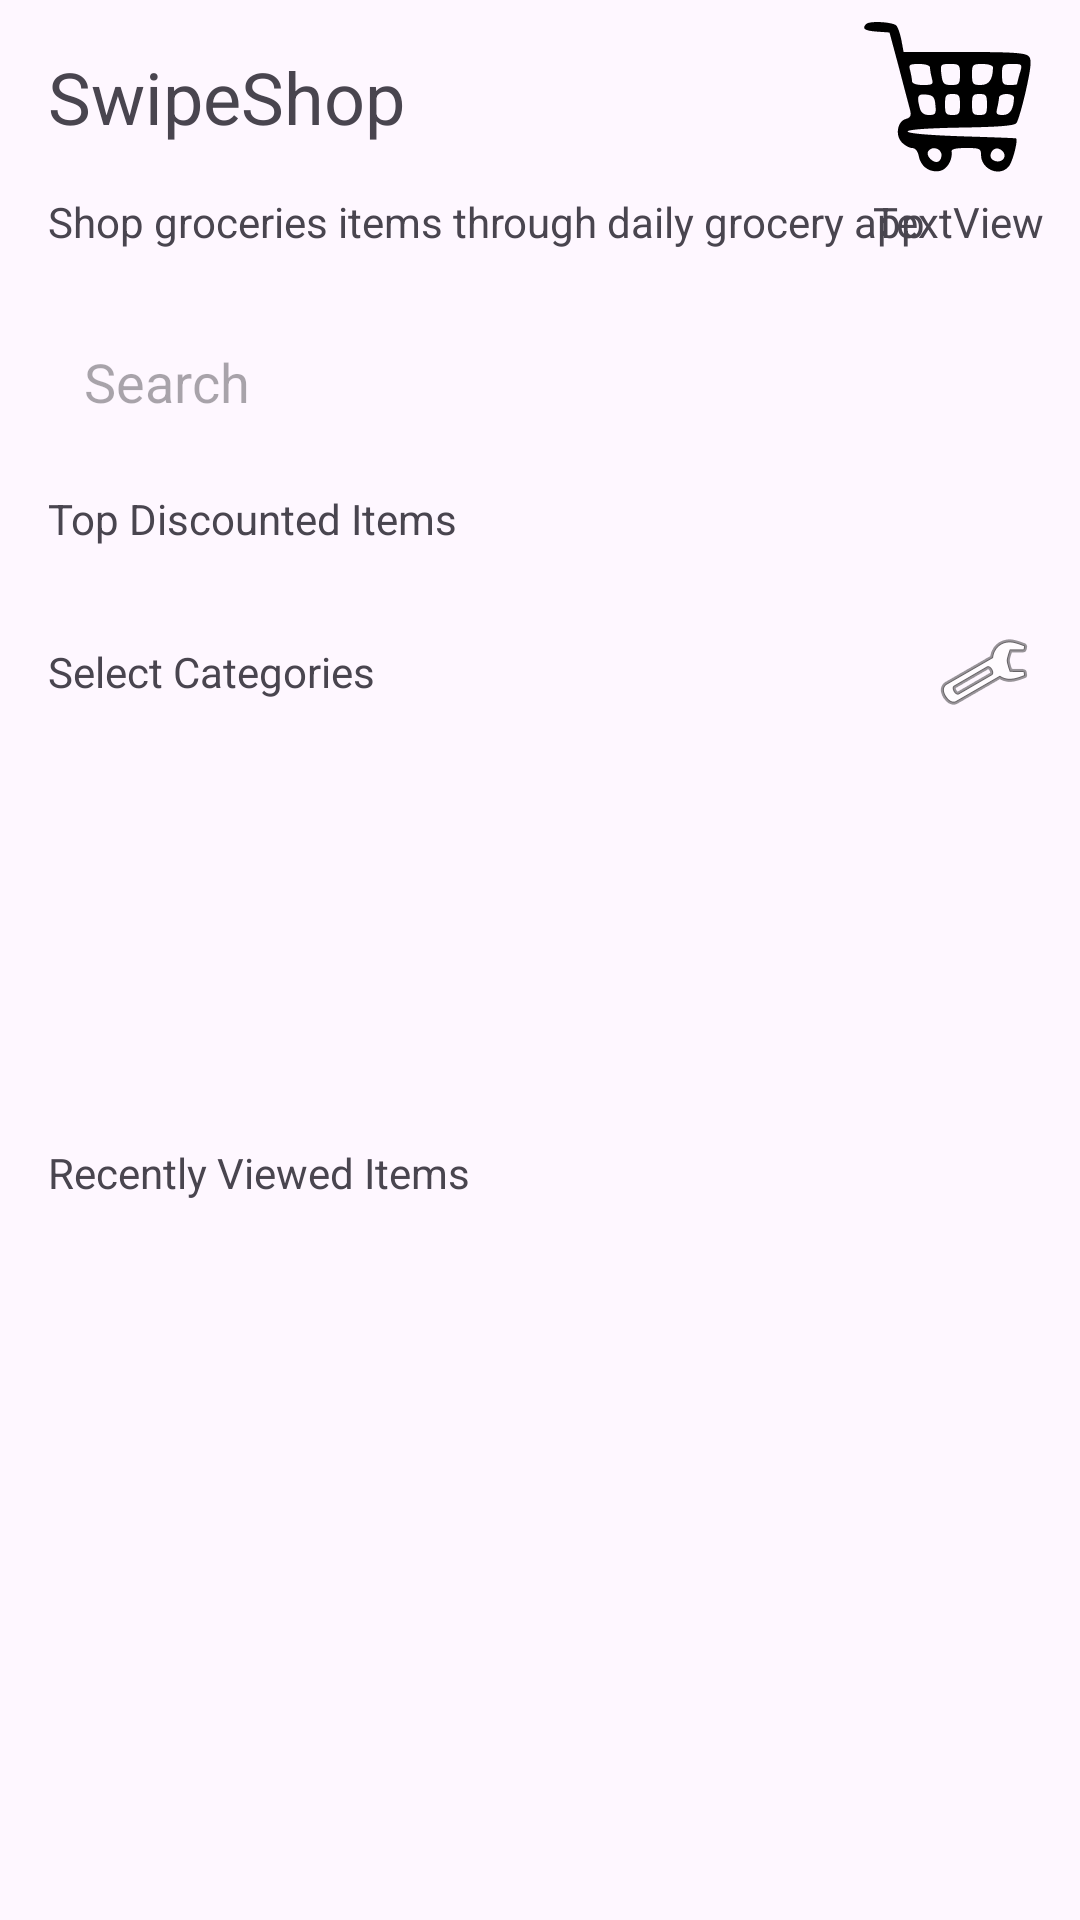

Screen size 1080px×1920px. Icon name, then its box in pixels as (left=x1, top=y1, right=x2, bottom=y2):
preferences: (left=941, top=639, right=1027, bottom=705)
shoppingcart: (left=864, top=22, right=1031, bottom=172)
